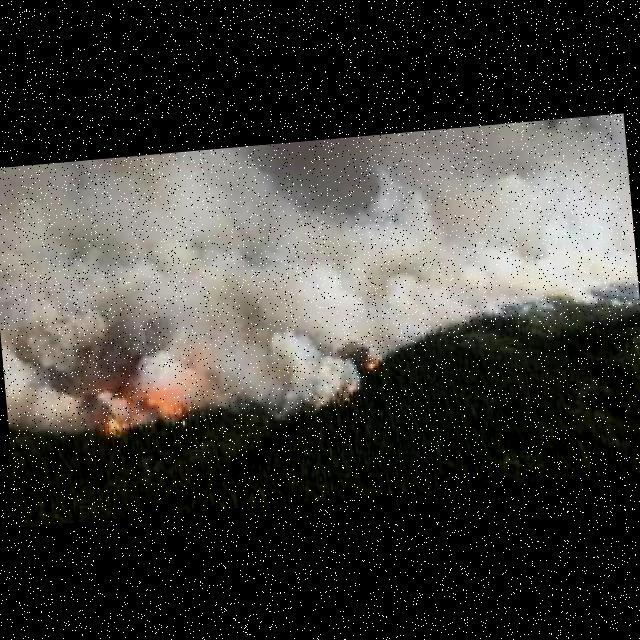Fire: (98, 393, 183, 438)
